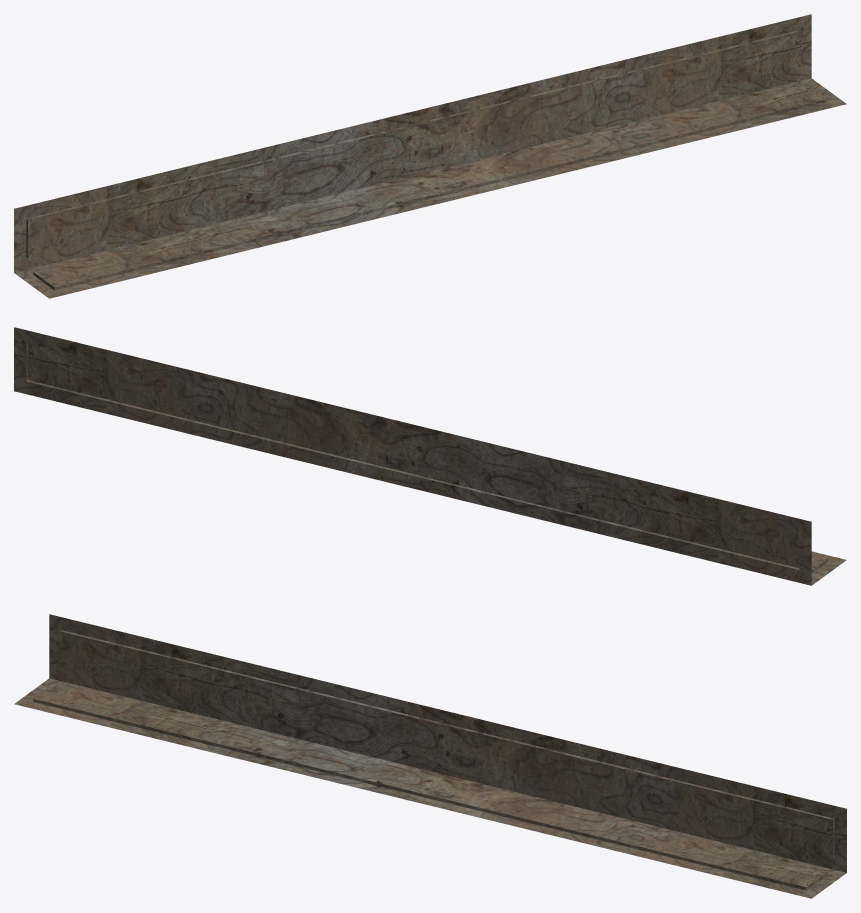
The model's file is _Border_1.FBX.
3 views of the same model, one above another, from view 1: azimuth 30°, elevation 25°; view 2: azimuth 150°, elevation 25°; view 3: azimuth 330°, elevation 25° (orthographic).
Visible parts, largest first — view 1: _Border_1; view 2: _Border_1; view 3: _Border_1.
Part boxes in pixels (x1,y1,x2,y2): _Border_1: (14, 14, 846, 298); _Border_1: (14, 327, 846, 585); _Border_1: (14, 614, 846, 898).
Bounding box in the file's own units: 651 × 50 × 50.
1 material, 1 textured.
